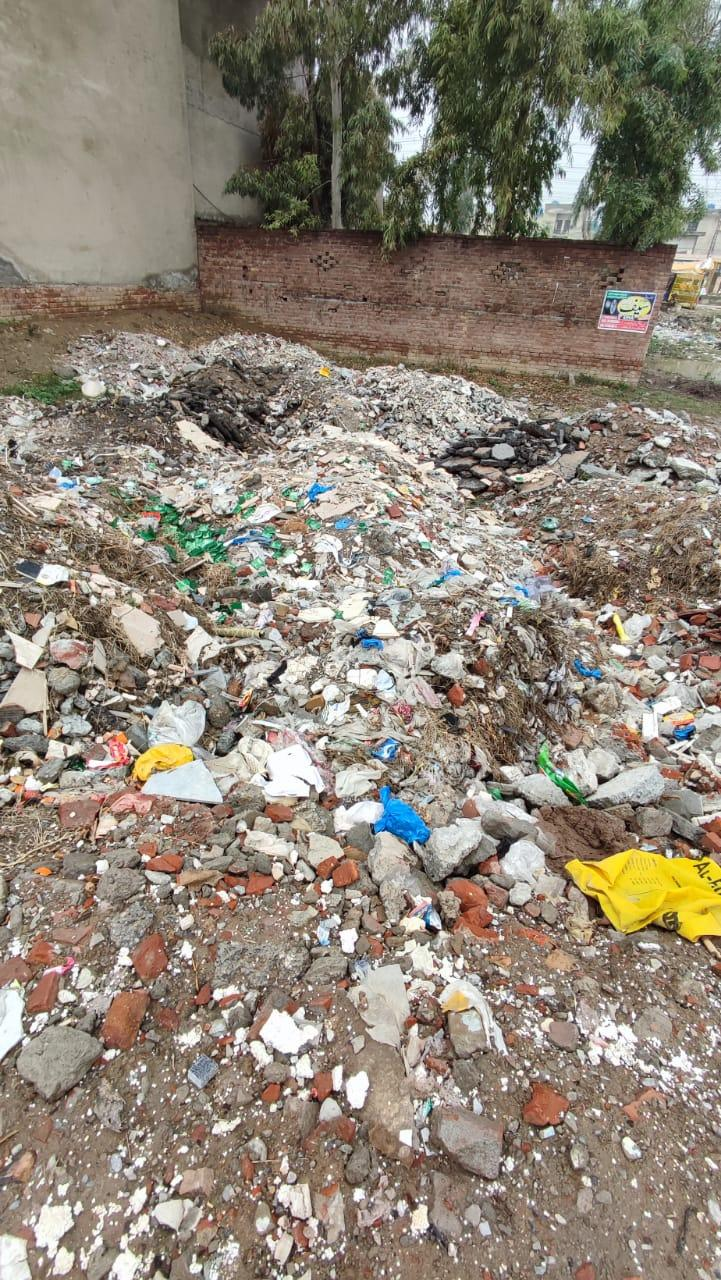garbage: (8, 331, 721, 941)
